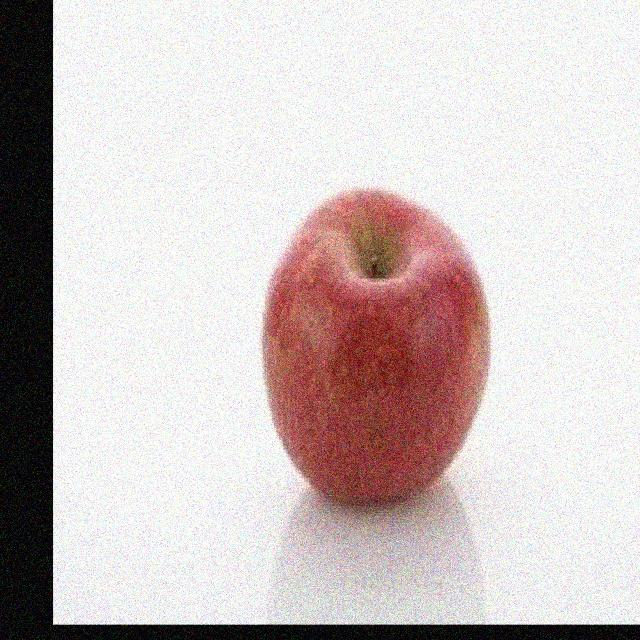red apple: (257, 185, 489, 510)
